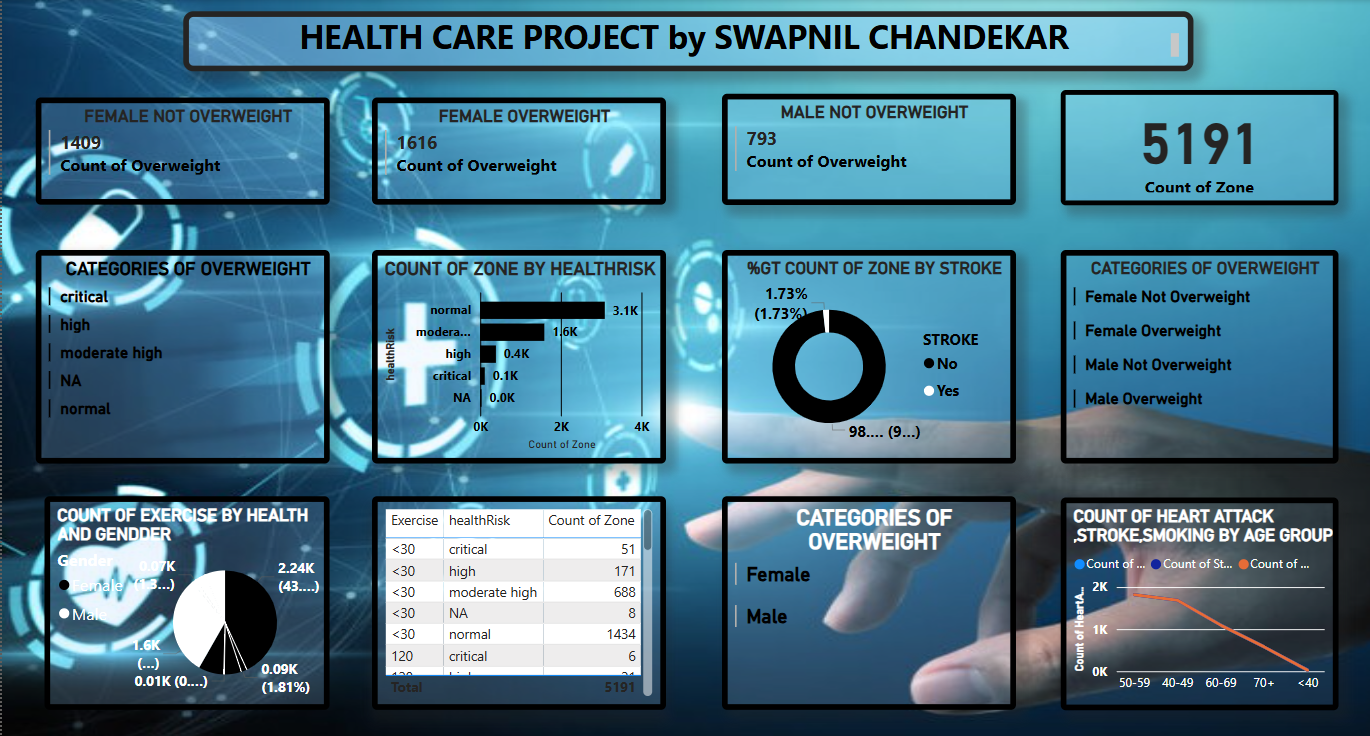

The page's visual inventory and layout, read from the dashboard file:
{"tool":"powerbi","page":{"name":"Page 1","canvas":[1280,720],"ordinal":0},"visuals":[{"type":"textbox","box":[182.5,0,919.4,63.1],"z":0},{"type":"card","title":"Patient Count","fields":{"Values":["CountNonNull(Sample_Data.Zone)"]},"box":[12.3,74.1,229.2,194.9],"z":1000,"group":"g1"},{"type":"tableEx","fields":{"Values":["Sample_Data.Zone","Sample_Data.HeartAttack"]},"box":[260.7,288.1,255.2,190.7],"z":2000,"group":"g2"},{"type":"donutChart","fields":{"Category":["Sample_Data.Stroke"],"Y":["Count(Sample_Data.Zone)"]},"box":[370.4,488.5,255.2,231.9],"z":3000,"group":"g3"},{"type":"pieChart","fields":{"Y":["CountNonNull(Sample_Data.Zone)"],"Category":["Sample_Data.HeartAttack"]},"box":[12.3,488.5,341.7,231.9],"z":4000,"group":"g3"},{"type":"slicer","title":"HealthRisk","fields":{"Values":["Sample_Data.healthRisk"]},"box":[12.3,284,233.3,194.9],"z":5000,"group":"g2"},{"type":"slicer","title":"Gender","fields":{"Values":["Sample_Data.Gender"]},"box":[260.7,74.1,227.8,194.9],"z":6000,"group":"g1"},{"type":"barChart","fields":{"Category":["Sample_Data.healthRisk"],"Y":["CountNonNull(Sample_Data.Zone)"]},"box":[532.4,284,463.8,194.9],"z":7000,"group":"g2"},{"type":"pieChart","title":"Count of Overweight","fields":{"Category":["Sample_Data.Overweight"],"Y":["CountNonNull(Sample_Data.Gender)"]},"box":[642.1,488.5,629.8,231.9],"z":8000,"group":"g3"},{"type":"actionButton","box":[0,0,100,40],"z":9000},{"type":"card","title":"Female Not Overweight","fields":{"Values":["CountNonNull(Sample_Data.Overweight)"]},"box":[1019.5,284,236,194.9],"z":10000,"group":"g2"},{"type":"card","title":"Negative Habits","fields":{"Values":["CountNonNull(Sample_Data.Habits)"]},"box":[498.1,74.1,226.4,194.9],"z":11000,"group":"g1"},{"type":"card","title":"Positive Habits","fields":{"Values":["CountNonNull(Sample_Data.Habits)"]},"box":[740.9,74.1,266.2,194.9],"z":12000,"group":"g1"},{"type":"card","title":"Female Overweight","fields":{"Values":["CountNonNull(Sample_Data.Overweight)"]},"box":[1019.5,74.1,236,194.9],"z":13000,"group":"g1"},{"type":"group","id":"g1","title":"Group 1","box":[12.3,74.1,1243.2,194.9],"z":13001},{"type":"group","id":"g2","title":"Group 2","box":[12.3,284,1243.2,194.9],"z":13002},{"type":"group","id":"g3","title":"Group 3","box":[12.3,488.5,1259.7,231.9],"z":13003}]}

Visuals, with their boxes on the page's 1280x720 design canvas (x1, y1, x2, y2). These are canvas units, not pixel positions in the 1370x736 screenshot, which may show the page scaled, cropped or inside an application window:
textbox: (x1=182, y1=0, x2=1102, y2=63)
"Patient Count" card: (x1=12, y1=74, x2=242, y2=269)
tableEx - Sample_Data.Zone x Sample_Data.HeartAttack: (x1=261, y1=288, x2=516, y2=479)
donutChart - Sample_Data.Stroke x Count(Sample_Data.Zone): (x1=370, y1=488, x2=626, y2=720)
pieChart - CountNonNull(Sample_Data.Zone) x Sample_Data.HeartAttack: (x1=12, y1=488, x2=354, y2=720)
"HealthRisk" slicer: (x1=12, y1=284, x2=246, y2=479)
"Gender" slicer: (x1=261, y1=74, x2=488, y2=269)
barChart - Sample_Data.healthRisk x CountNonNull(Sample_Data.Zone): (x1=532, y1=284, x2=996, y2=479)
"Count of Overweight" pieChart: (x1=642, y1=488, x2=1272, y2=720)
actionButton: (x1=0, y1=0, x2=100, y2=40)
"Female Not Overweight" card: (x1=1020, y1=284, x2=1256, y2=479)
"Negative Habits" card: (x1=498, y1=74, x2=724, y2=269)
"Positive Habits" card: (x1=741, y1=74, x2=1007, y2=269)
"Female Overweight" card: (x1=1020, y1=74, x2=1256, y2=269)
"Group 1" group: (x1=12, y1=74, x2=1256, y2=269)
"Group 2" group: (x1=12, y1=284, x2=1256, y2=479)
"Group 3" group: (x1=12, y1=488, x2=1272, y2=720)
